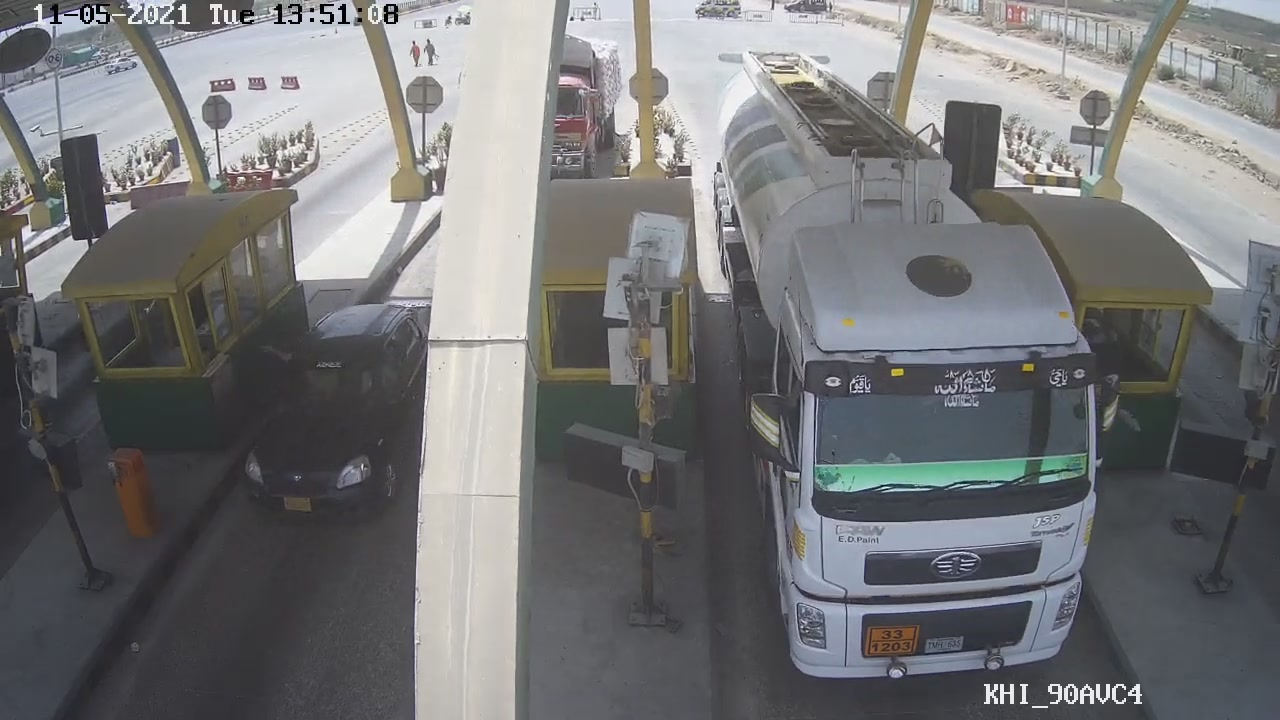F6: (705, 46, 1124, 687)
